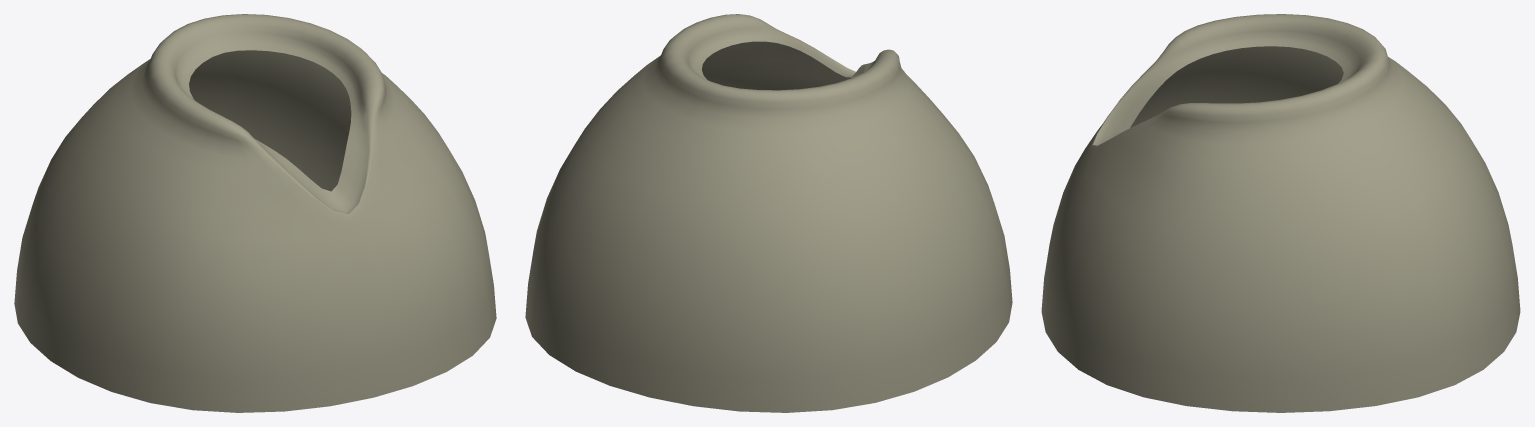
The picture shows the model from 3 angles, left to right: view 1: azimuth 30°, elevation 25°; view 2: azimuth 150°, elevation 25°; view 3: azimuth 270°, elevation 25°; orthographic projection.
Parts seen in each view (by area): view 1: sweater; view 2: sweater; view 3: sweater.
Part boxes in pixels (left/top/right/bottom): sweater: left=14, top=14, right=496, bottom=412; sweater: left=525, top=14, right=1012, bottom=412; sweater: left=1041, top=14, right=1520, bottom=412.
Bounding box in the file's own units: 1.36 × 0.8134 × 1.36.
